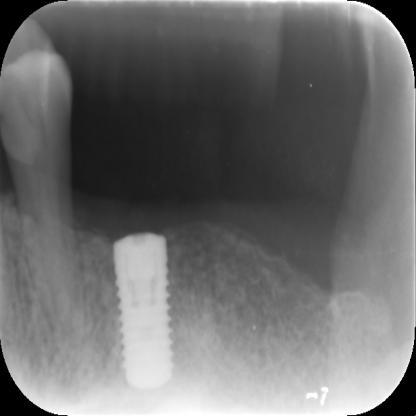ITI: (110, 229, 177, 394)
